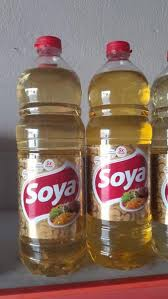óleo_de_cozinha: (13, 35, 84, 274), (85, 42, 155, 262)
